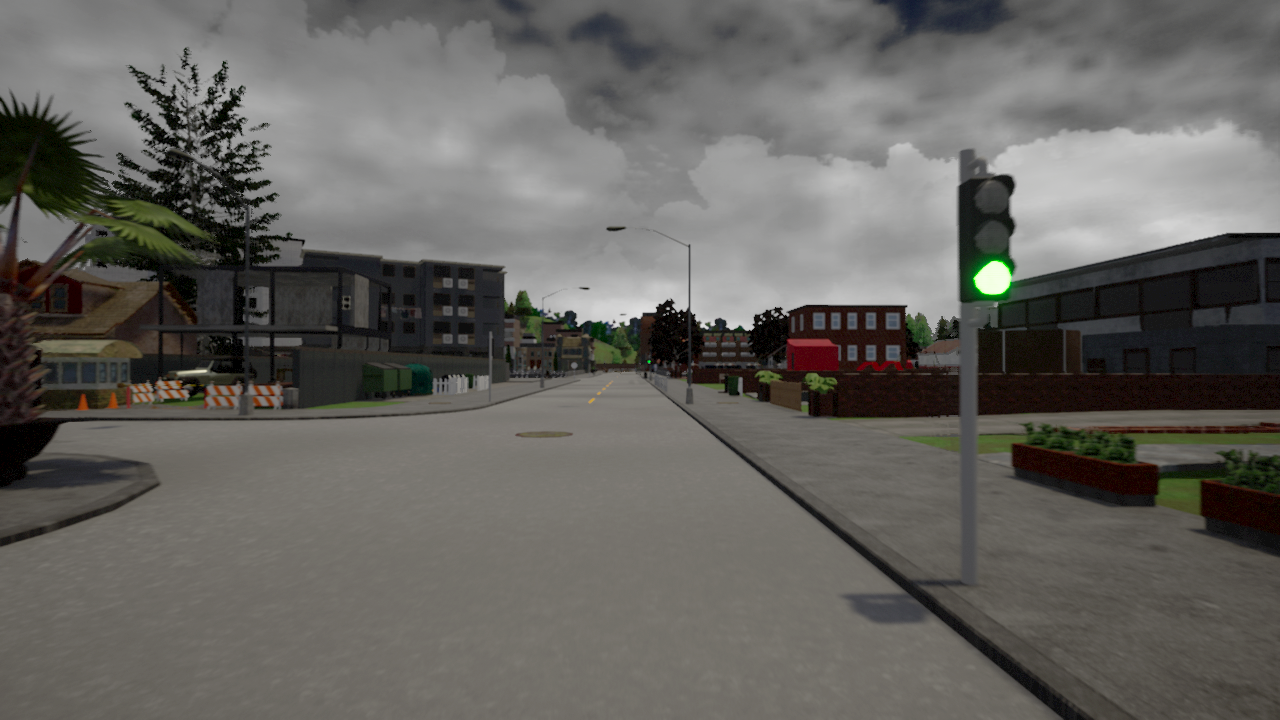green: (954, 173, 1018, 305)
